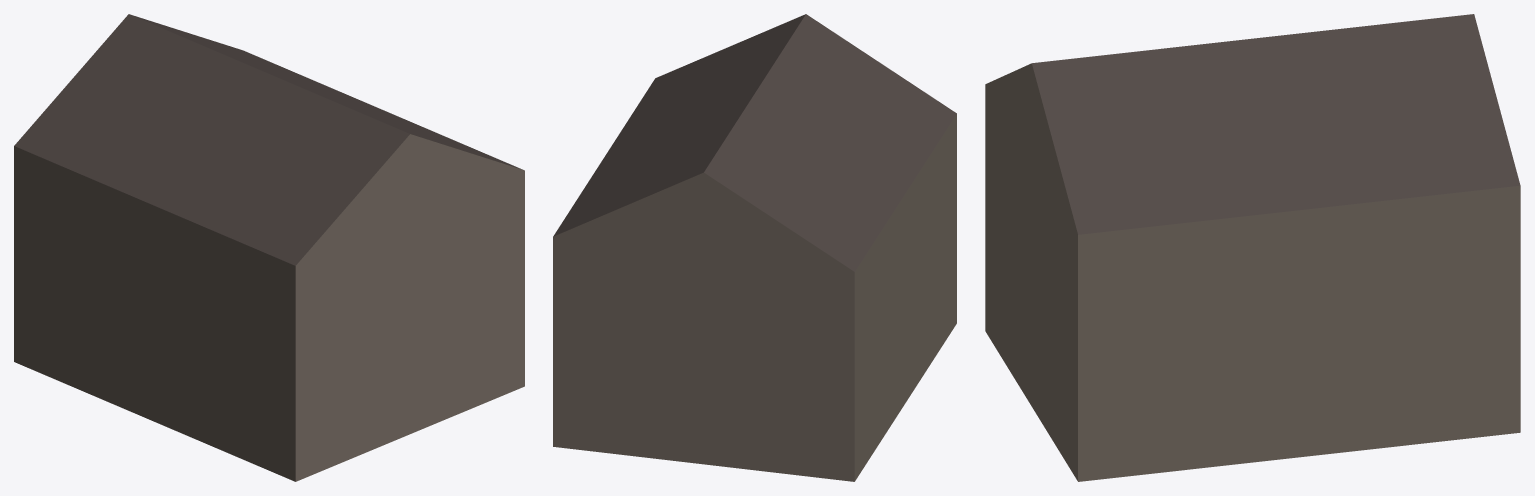
The picture shows the model from 3 angles, left to right: view 1: azimuth 30°, elevation 25°; view 2: azimuth 150°, elevation 25°; view 3: azimuth 270°, elevation 25°; orthographic projection. The views are drawn at different scales.
Visible parts, largest first — view 1: HP-w776801017; view 2: HP-w776801017; view 3: HP-w776801017.
Boxes of the visible parts, x1,y1,x2,y2 form: HP-w776801017: (14,14,524,481); HP-w776801017: (553,14,956,481); HP-w776801017: (985,14,1520,481).
Size of the model in its own units: 10.41 by 8.34 by 11.77.
